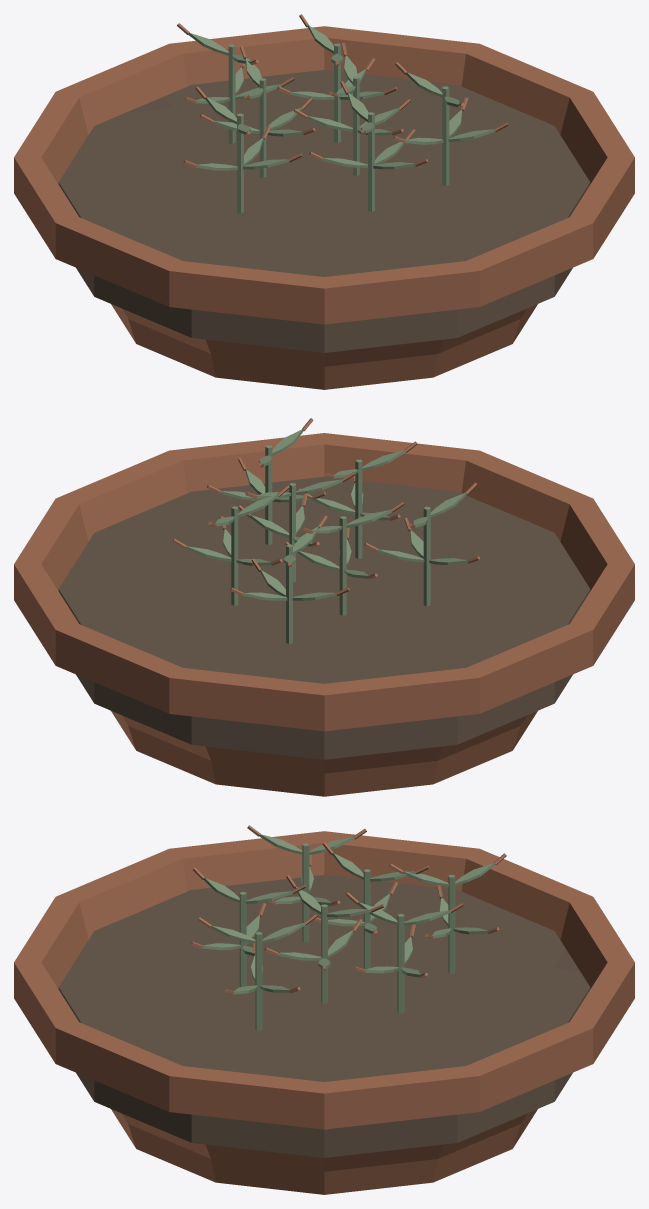
Rendered from moss-juniperinum.glb.
3 renders of one model, top to bottom at view 1: azimuth 30°, elevation 25°; view 2: azimuth 150°, elevation 25°; view 3: azimuth 270°, elevation 25°, orthographic.
Parts seen in each view (by area): view 1: moss-juniperinum/review-rooted-soil, moss-juniperinum/review-terra-vessel, moss-juniperinum/moss-stem-056, moss-juniperinum/moss-stem-012, moss-juniperinum/moss-stem-023, moss-juniperinum/moss-stem-067, moss-juniperinum/moss-stem-045, moss-juniperinum/moss-stem-034, moss-juniperinum/moss-stem-001; view 2: moss-juniperinum/review-rooted-soil, moss-juniperinum/review-terra-vessel, moss-juniperinum/moss-stem-045, moss-juniperinum/moss-stem-012, moss-juniperinum/moss-stem-034, moss-juniperinum/moss-stem-023, moss-juniperinum/moss-stem-067, moss-juniperinum/moss-stem-056; view 3: moss-juniperinum/review-rooted-soil, moss-juniperinum/review-terra-vessel, moss-juniperinum/moss-stem-056, moss-juniperinum/moss-stem-034, moss-juniperinum/moss-stem-067, moss-juniperinum/moss-stem-012, moss-juniperinum/moss-stem-023, moss-juniperinum/moss-stem-045, moss-juniperinum/moss-stem-001.
Boxes of the visible parts, x1,y1,x2,y2 form: moss-juniperinum/review-rooted-soil: (58, 70, 590, 352); moss-juniperinum/review-terra-vessel: (14, 26, 634, 389); moss-juniperinum/moss-stem-056: (442, 86, 449, 185); moss-juniperinum/moss-stem-012: (259, 78, 266, 177); moss-juniperinum/moss-stem-023: (368, 112, 374, 211); moss-juniperinum/moss-stem-067: (228, 44, 235, 143); moss-juniperinum/moss-stem-045: (237, 113, 243, 213); moss-juniperinum/moss-stem-034: (334, 43, 340, 142); moss-juniperinum/moss-stem-001: (353, 76, 359, 175); moss-juniperinum/review-rooted-soil: (58, 476, 590, 759); moss-juniperinum/review-terra-vessel: (14, 433, 634, 796); moss-juniperinum/moss-stem-045: (423, 506, 430, 606); moss-juniperinum/moss-stem-012: (339, 516, 346, 615); moss-juniperinum/moss-stem-034: (231, 506, 238, 605); moss-juniperinum/moss-stem-023: (355, 459, 362, 559); moss-juniperinum/moss-stem-067: (286, 544, 292, 643); moss-juniperinum/moss-stem-056: (265, 445, 272, 544); moss-juniperinum/review-rooted-soil: (58, 875, 590, 1157); moss-juniperinum/review-terra-vessel: (14, 831, 634, 1194); moss-juniperinum/moss-stem-056: (255, 932, 262, 1031); moss-juniperinum/moss-stem-034: (397, 914, 404, 1013); moss-juniperinum/moss-stem-067: (448, 874, 455, 974); moss-juniperinum/moss-stem-012: (363, 869, 370, 968); moss-juniperinum/moss-stem-023: (239, 891, 246, 987); moss-juniperinum/moss-stem-045: (302, 843, 309, 942); moss-juniperinum/moss-stem-001: (321, 904, 327, 1003).
Bounding box in the file's own units: 0.25 × 0.0989 × 0.25.
Materials: 4 (4 with a texture image).
